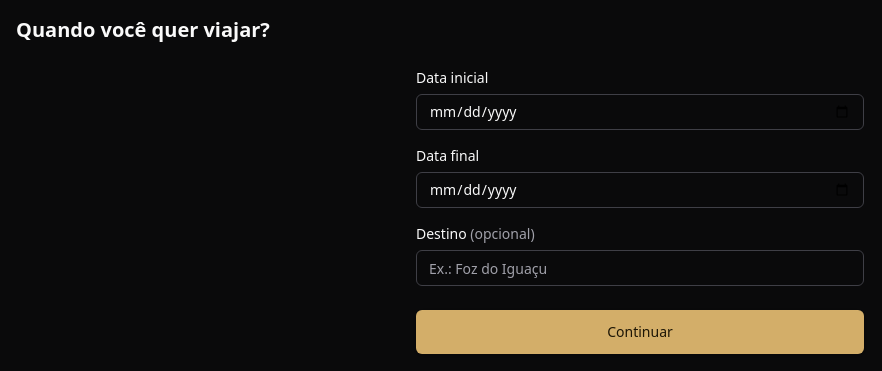
Test: DataLivrePage (T01, RL6-T02, Bloqueio 006) › botão entra em estado de pendência (aria-busy) enquanto aguarda a Server Action, mesmo padrão de DestinoConfirmacaoScreen
Type "2026-10-05" into the date field labelled "Data inicial" at x=640, y=112, box [416,94,864,130]
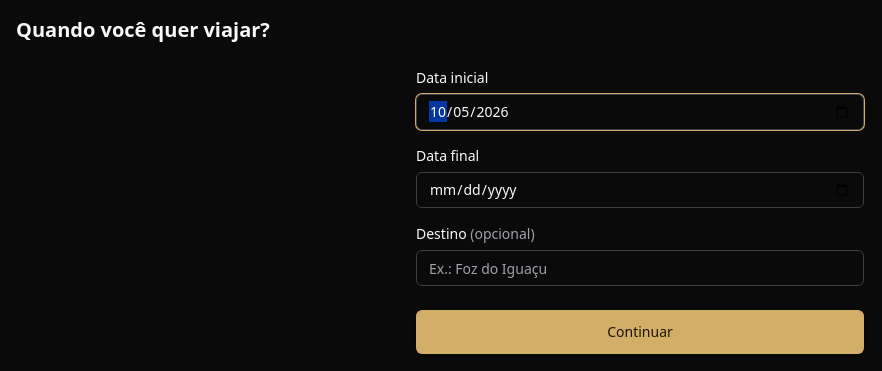
Type "2026-10-10" into the date field labelled "Data final" at x=640, y=190, box [416,172,864,208]
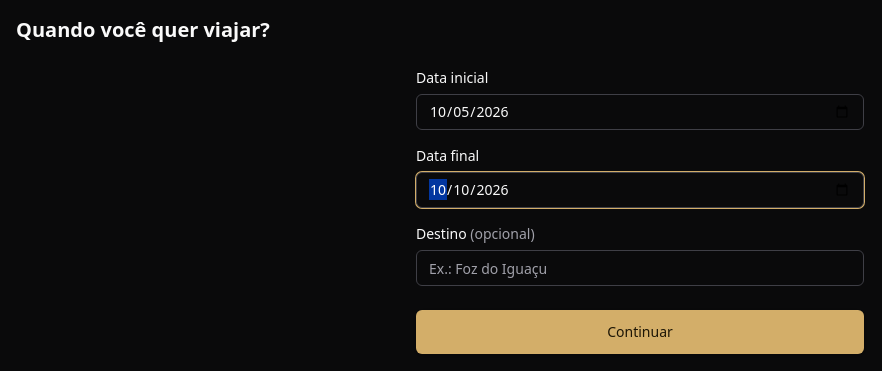
Click the button "Continuar" at x=640, y=332, box [416,310,864,354]
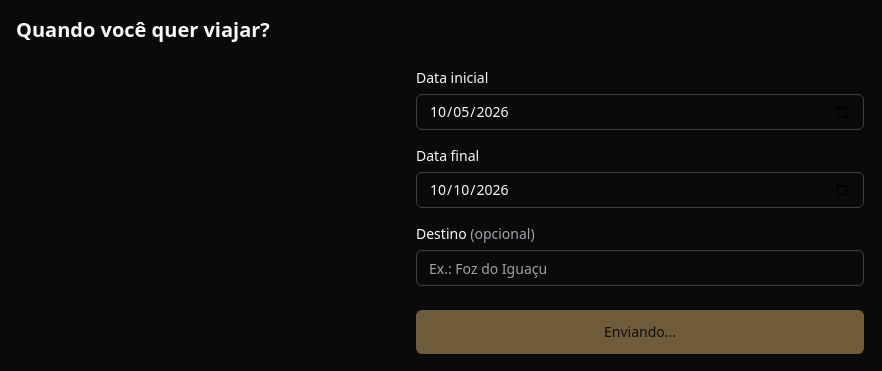
Expected: the heading "Quando você quer viajar?" is shown, [16,16,270,43]
Expected: the button "Enviando..." is disabled, [416,310,864,354]
